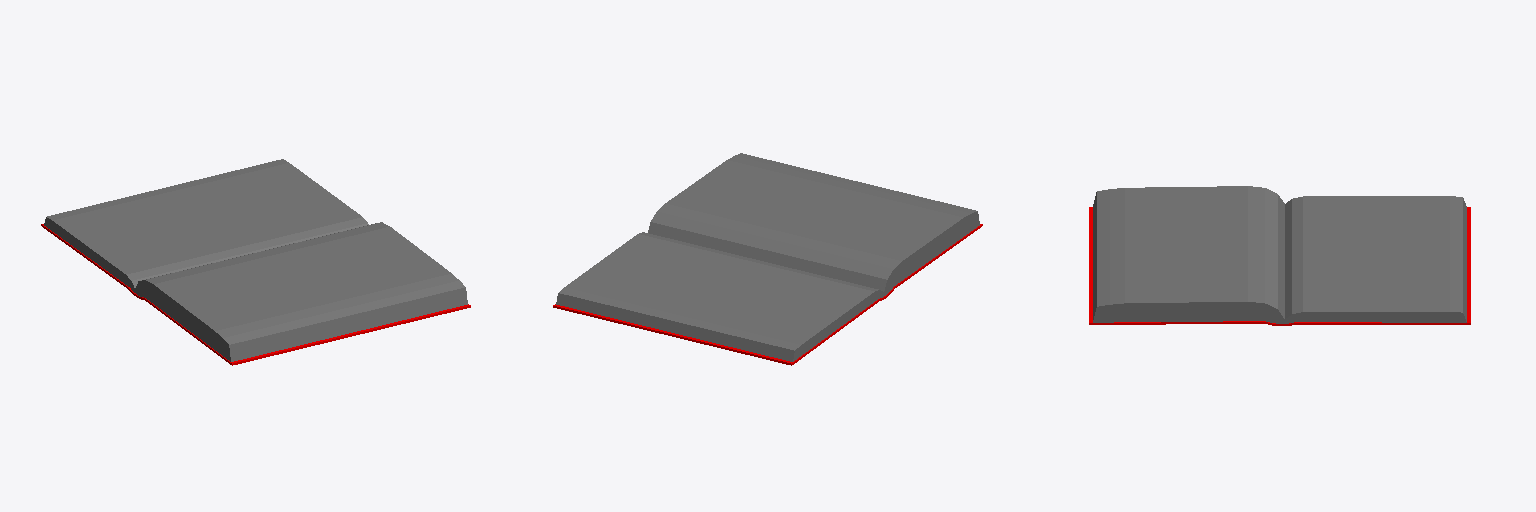
File: BookOpen.obj
The picture shows the model from 3 angles: view 1: azimuth 30°, elevation 25°; view 2: azimuth 150°, elevation 25°; view 3: azimuth 270°, elevation 25°; orthographic projection.
Parts seen in each view (by area): view 1: pCube2_pCube2, pCube1_pCube1; view 2: pCube2_pCube2, pCube1_pCube1; view 3: pCube2_pCube2, pCube1_pCube1.
Boxes of the visible parts, x1,y1,x2,y2 form: pCube2_pCube2: [44, 159, 467, 361]; pCube1_pCube1: [41, 224, 470, 365]; pCube2_pCube2: [556, 153, 979, 361]; pCube1_pCube1: [553, 224, 982, 365]; pCube2_pCube2: [1093, 186, 1466, 323]; pCube1_pCube1: [1089, 207, 1470, 325].
Size of the model in its own units: 12.49 by 1.21 by 17.28.